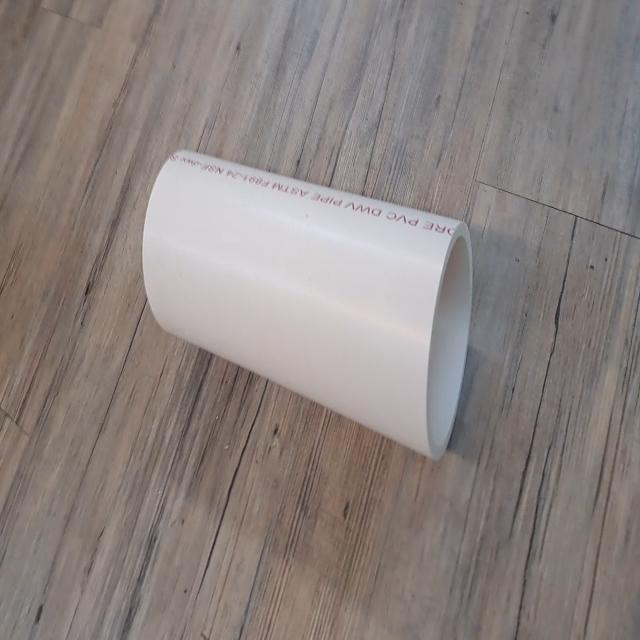CORAL: (136, 129, 476, 469)
